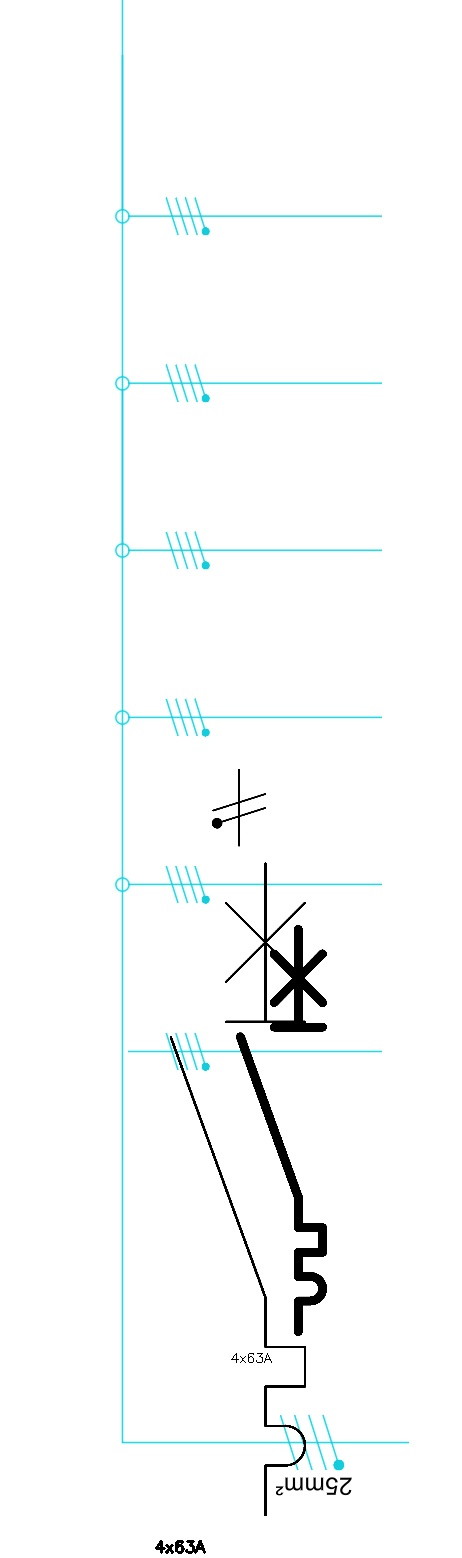interruptor_termomagnetico: (154, 846, 322, 1532), (230, 919, 333, 1342)
